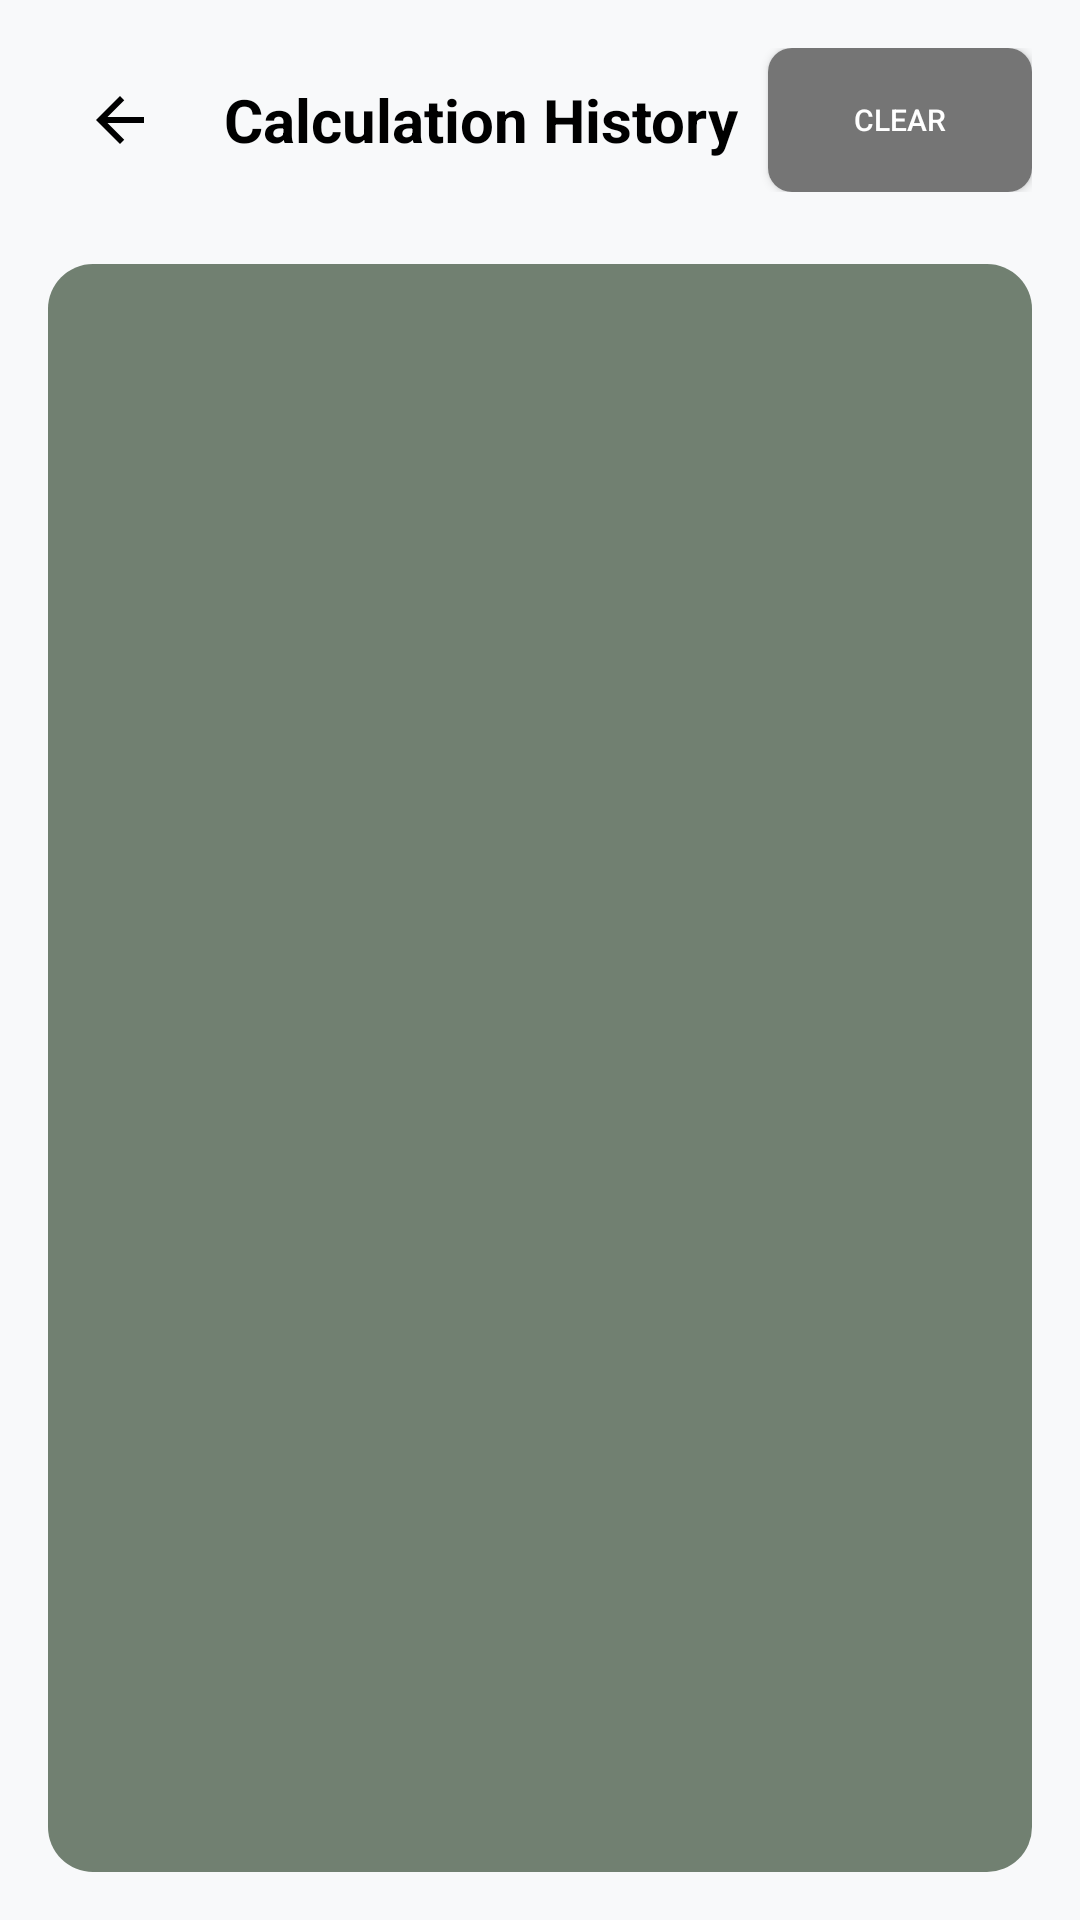

Where to tap for icons on this 1080 × 1920 app screen, as point (x, y):
Back: point (120, 120)
